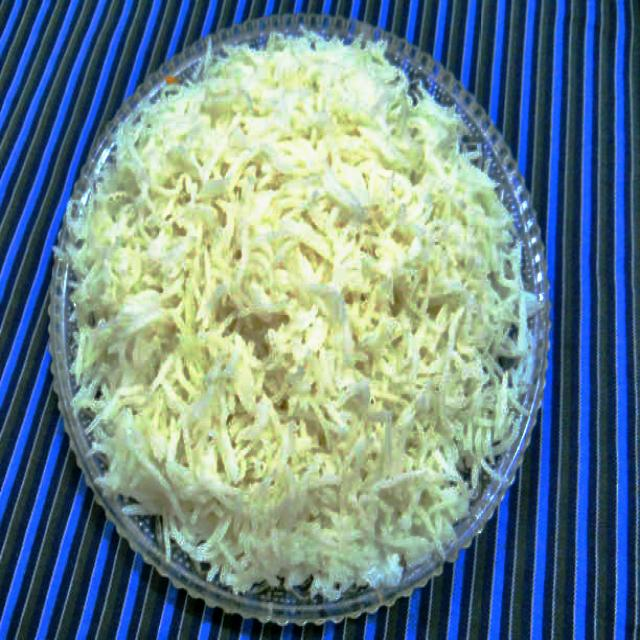rice: (56, 25, 536, 601)
